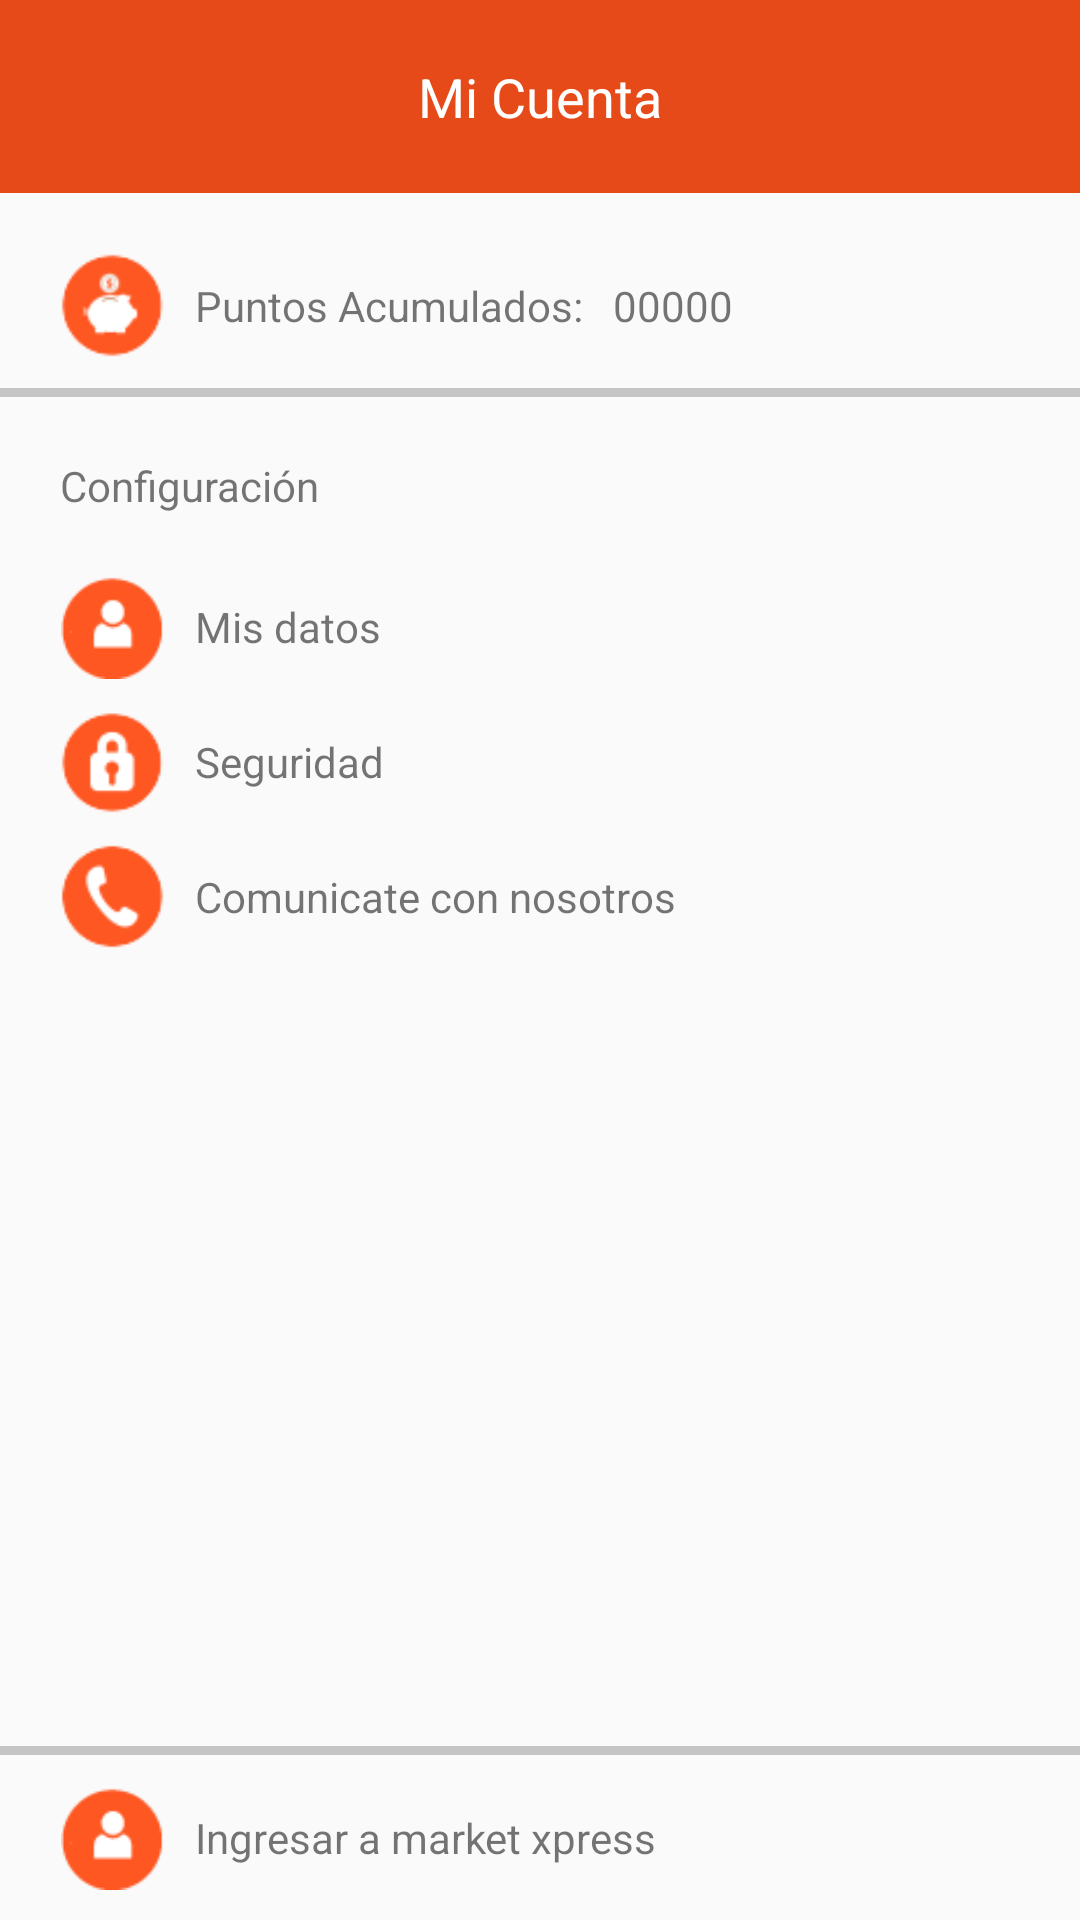

Locate icon controls on the screen. Image size 1080w x 1920h, boxes as (x1, y1, x2, y2).
ahorro: (62, 255, 163, 356)
contacto: (61, 845, 163, 948)
security: (62, 713, 162, 812)
user: (61, 578, 163, 679), (61, 1789, 163, 1890)
